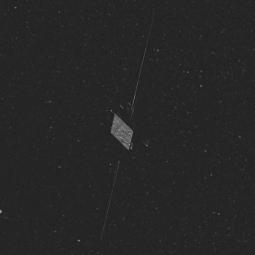smart_1: (88, 33, 170, 193)
